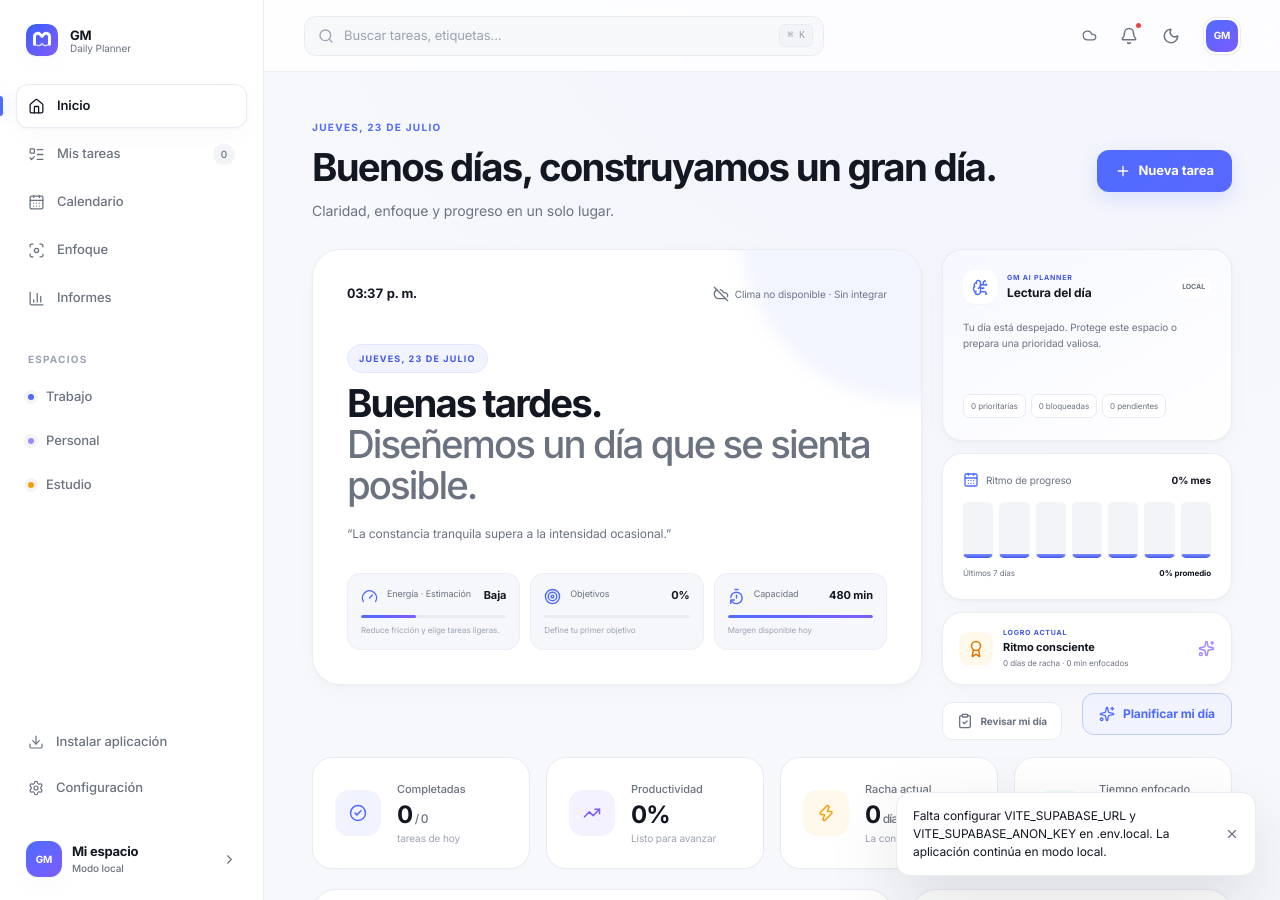
GM Daily Planner Pro › refleja de forma segura el estado de configuración de Supabase
The image size is (1280, 900).
Click the button with aria-label "Conectar cuenta". click: [1222, 36]
box: [1204,18,1240,54]
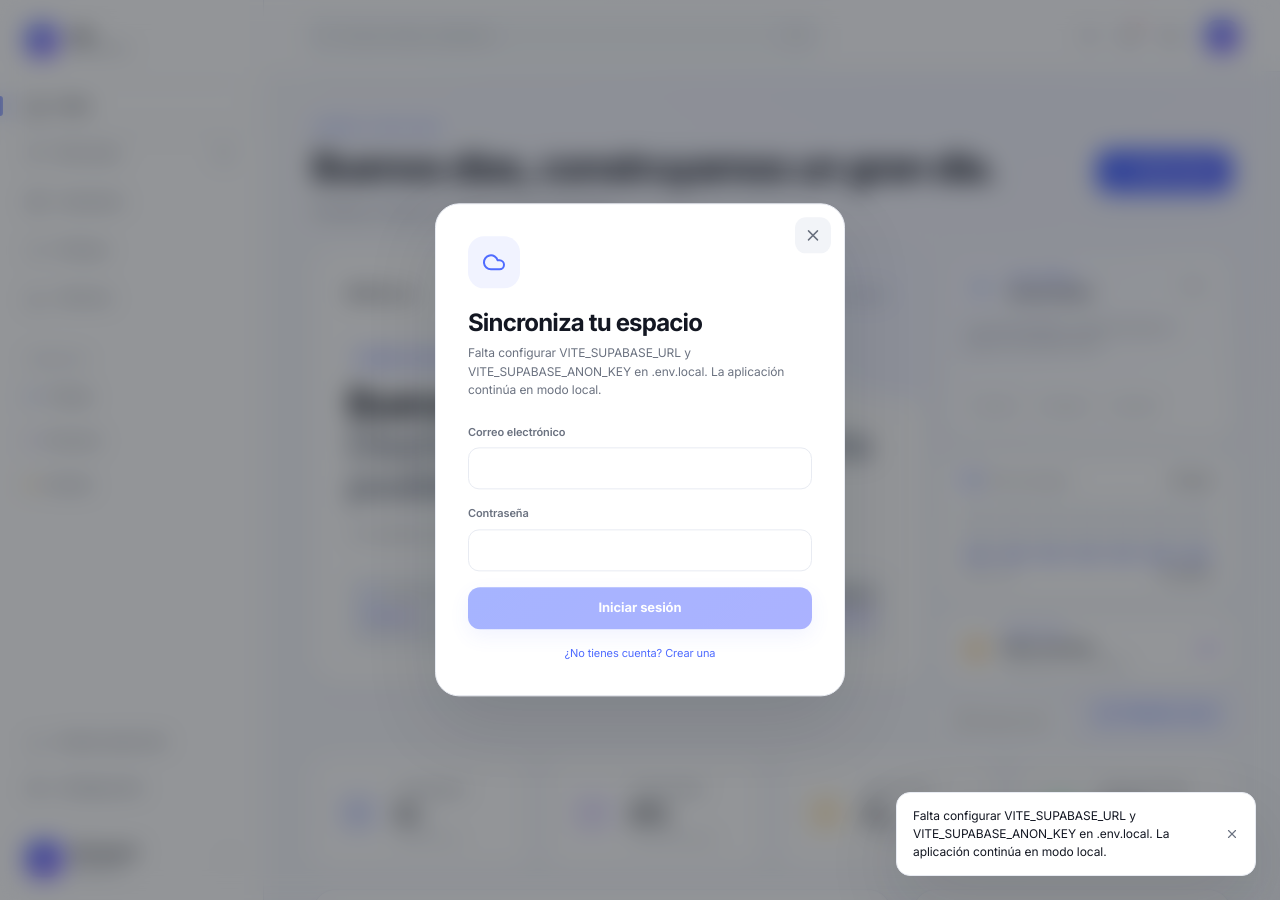
Check: the dialog shows "Falta configurar VITE_SUPABASE_URL y VITE_SUPABASE_ANON_KEY", box [468,345,784,398]
Check: the button "Iniciar sesión" is disabled, box [468,587,812,629]
